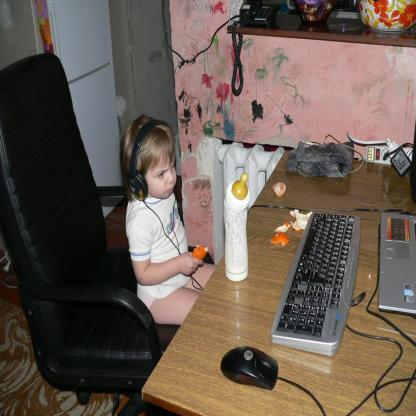board: (380, 212, 416, 314), (224, 173, 249, 283)
